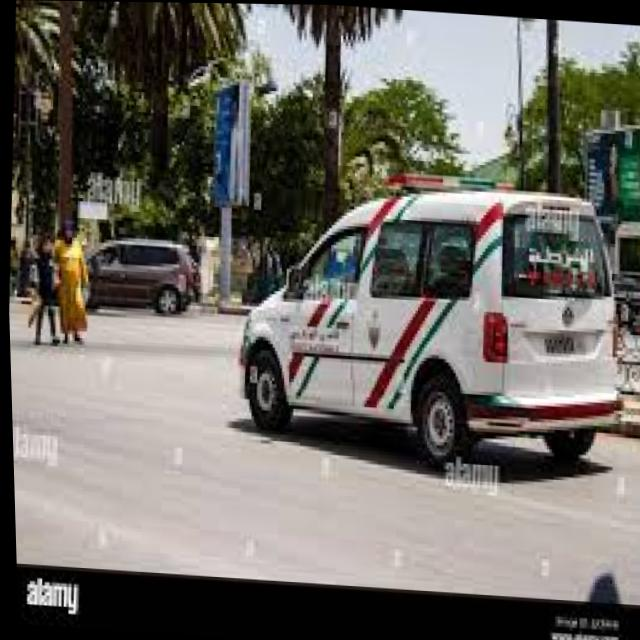Police car: (224, 146, 636, 487)
